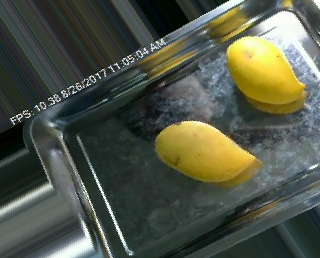Mango: (156, 120, 254, 183), (228, 36, 306, 104)
